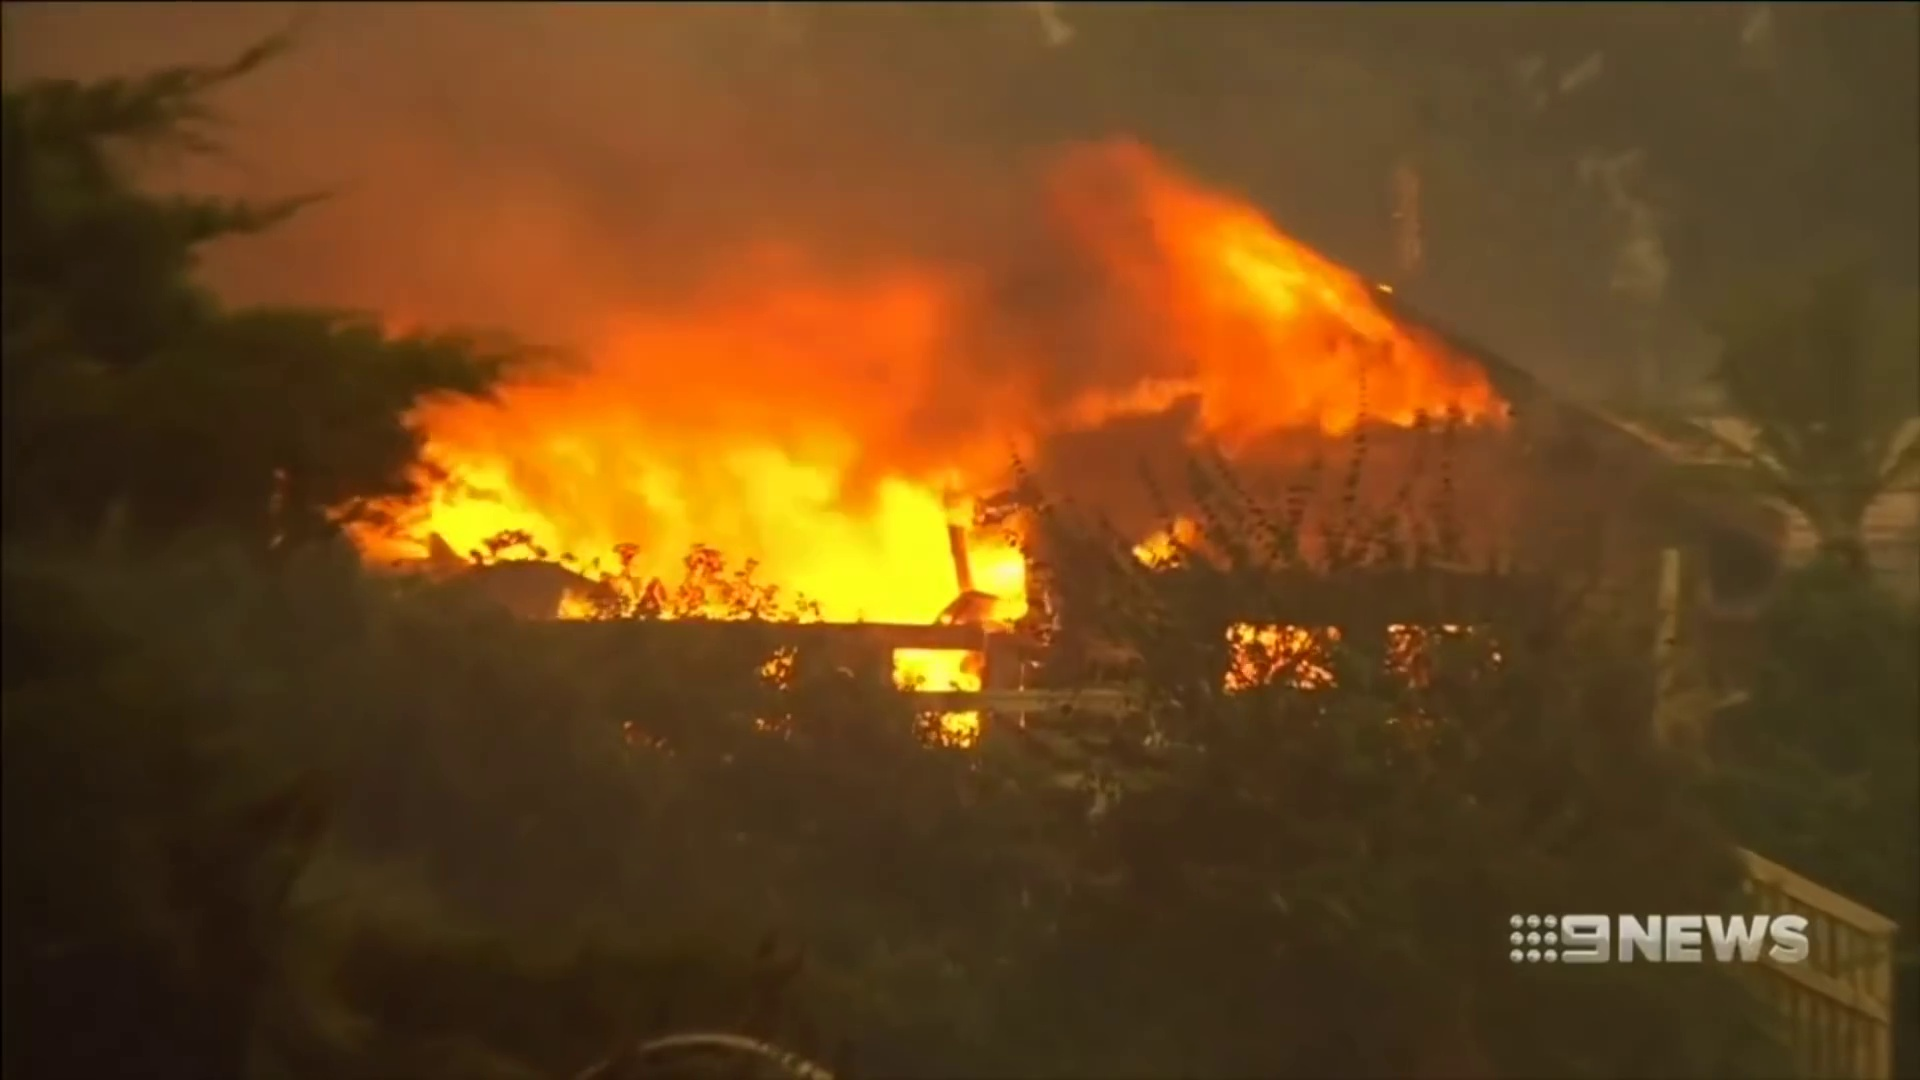fire: (572, 467, 951, 620), (907, 653, 973, 688)
